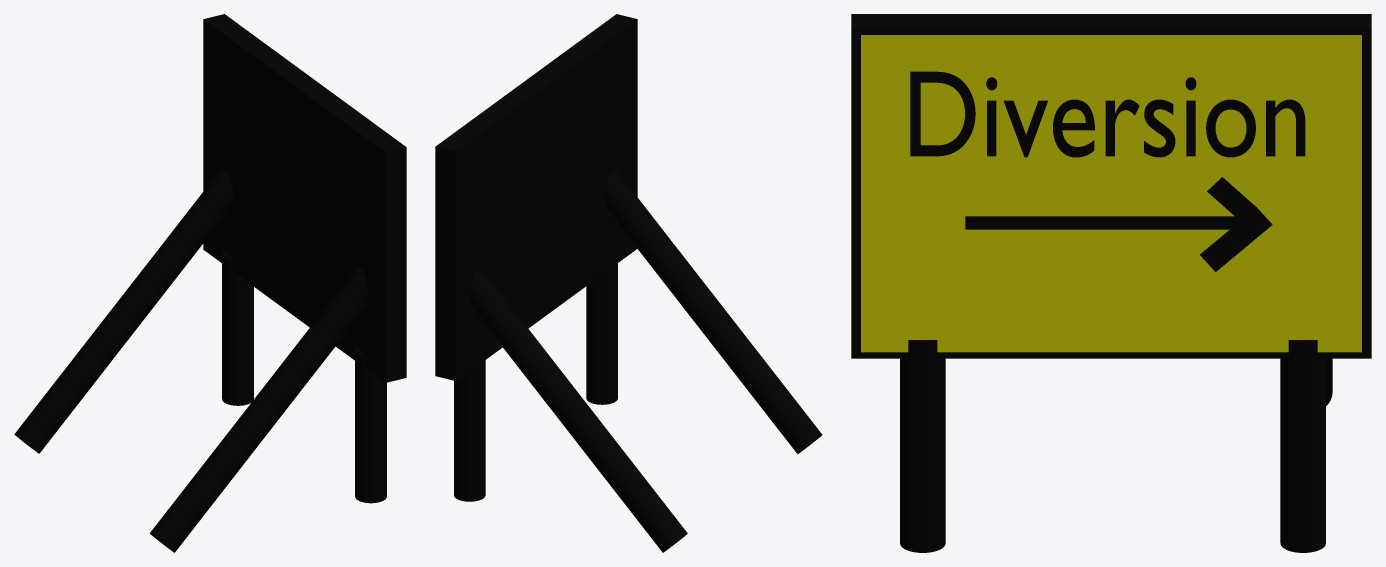
Rendered from uk_diversion_right.fbx.
3 renders of one model, left to right at view 1: azimuth 30°, elevation 25°; view 2: azimuth 150°, elevation 25°; view 3: azimuth 270°, elevation 25°, orthographic. The views are drawn at different scales.
Visible parts, largest first — view 1: Cube, Cylinder.003, Cylinder.002, Cylinder, Cylinder.001; view 2: Cube, Cylinder.002, Cylinder.003, Cylinder.001, Cylinder; view 3: Cube, Text, Cylinder, Cylinder.001, Plane, Plane.001, Plane.002.
Boxes of the visible parts, x1,y1,x2,y2 form: Cube: (203,14,406,382); Cylinder.003: (14,168,232,453); Cylinder.002: (150,267,368,552); Cylinder: (355,348,386,503); Cylinder.001: (222,251,253,405); Cube: (435,14,637,381); Cylinder.002: (604,170,822,454); Cylinder.003: (470,269,687,552); Cylinder.001: (454,347,485,501); Cylinder: (586,250,617,404); Cube: (851,14,1371,358); Text: (910,71,1305,157); Cylinder: (900,340,945,552); Cylinder.001: (1280,340,1325,552); Plane: (965,216,1242,229); Plane.001: (1200,207,1272,271); Plane.002: (1207,177,1256,218).
Bounding box in the file's own units: 25.25 × 38.51 × 34.25.
